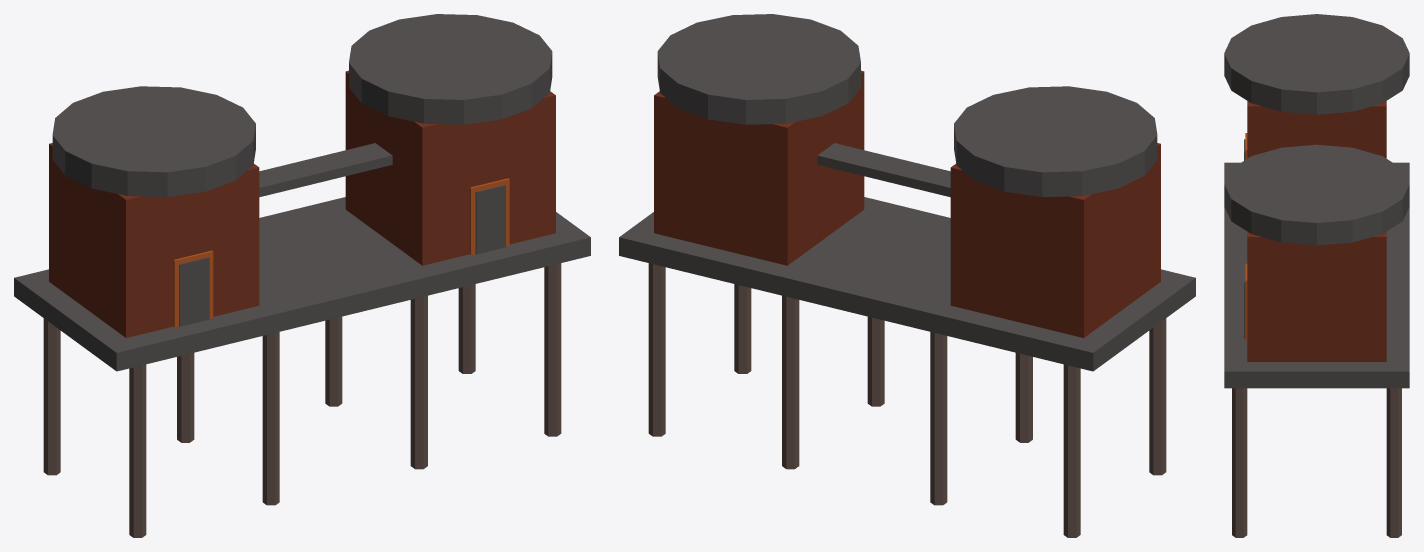
The model's file is twin_towers_script.glb.
The picture shows the model from 3 angles, left to right: view 1: azimuth 30°, elevation 25°; view 2: azimuth 150°, elevation 25°; view 3: azimuth 270°, elevation 25°; orthographic projection. The views are drawn at different scales.
Parts seen in each view (by area): view 1: Cube, Cube.001, Cube.004, Cylinder.008, Cylinder.009, Cube.007, Cylinder.004, Cylinder.006, Cylinder.002, Cylinder, Cylinder.001, Cube.003 (+6 smaller); view 2: Cube, Cube.001, Cube.004, Cylinder.008, Cylinder.009, Cube.007, Cylinder.005, Cylinder.007, Cylinder.003, Cylinder.001, Cylinder, Cylinder.002 (+2 smaller); view 3: Cube.004, Cylinder.008, Cylinder.009, Cube, Cube.001, Cylinder.006, Cylinder.007.
Boxes of the visible parts, <box> form: Cube: <box>14,197,590,371</box>; Cube.001: <box>49,143,259,337</box>; Cube.004: <box>345,70,555,265</box>; Cylinder.008: <box>52,86,255,196</box>; Cylinder.009: <box>349,14,552,124</box>; Cube.007: <box>259,143,392,197</box>; Cylinder.004: <box>410,295,427,469</box>; Cylinder.006: <box>544,263,561,436</box>; Cylinder.002: <box>262,332,279,505</box>; Cylinder: <box>129,364,146,537</box>; Cylinder.001: <box>43,318,60,475</box>; Cube.003: <box>179,257,209,326</box>; Cube: <box>619,197,1195,371</box>; Cube.001: <box>950,143,1160,337</box>; Cube.004: <box>654,70,864,265</box>; Cylinder.008: <box>954,86,1157,196</box>; Cylinder.009: <box>657,14,860,124</box>; Cube.007: <box>817,143,950,197</box>; Cylinder.005: <box>782,295,799,469</box>; Cylinder.007: <box>648,263,665,436</box>; Cylinder.003: <box>930,332,947,505</box>; Cylinder.001: <box>1063,364,1080,537</box>; Cylinder: <box>1149,318,1166,475</box>; Cylinder.002: <box>1015,353,1032,442</box>; Cube.004: <box>1247,231,1386,361</box>; Cylinder.008: <box>1224,14,1409,114</box>; Cylinder.009: <box>1224,144,1409,245</box>; Cube: <box>1224,162,1409,388</box>; Cube.001: <box>1247,101,1386,158</box>; Cylinder.006: <box>1232,388,1247,537</box>; Cylinder.007: <box>1386,388,1401,537</box>.
Size of the model in its own units: 16 by 11.6 by 6.
